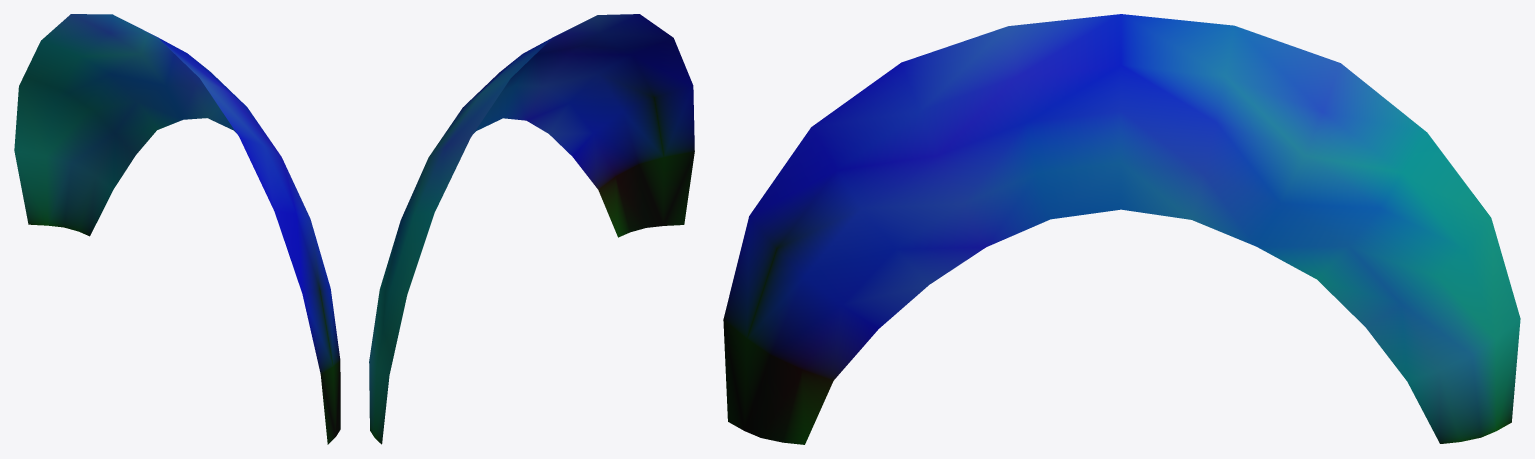
The model's file is sertz__uni_arc.glb.
3 renders of one model, left to right at view 1: azimuth 30°, elevation 25°; view 2: azimuth 150°, elevation 25°; view 3: azimuth 270°, elevation 25°, orthographic. The views are drawn at different scales.
Parts seen in each view (by area): view 1: uni_arc; view 2: uni_arc; view 3: uni_arc.
Part boxes in pixels (box(x1,y1,x2,y2)): uni_arc: box(14, 14, 340, 444); uni_arc: box(369, 14, 694, 444); uni_arc: box(723, 14, 1520, 444).
Size of the model in its own units: 19.52 by 70.04 by 128.
